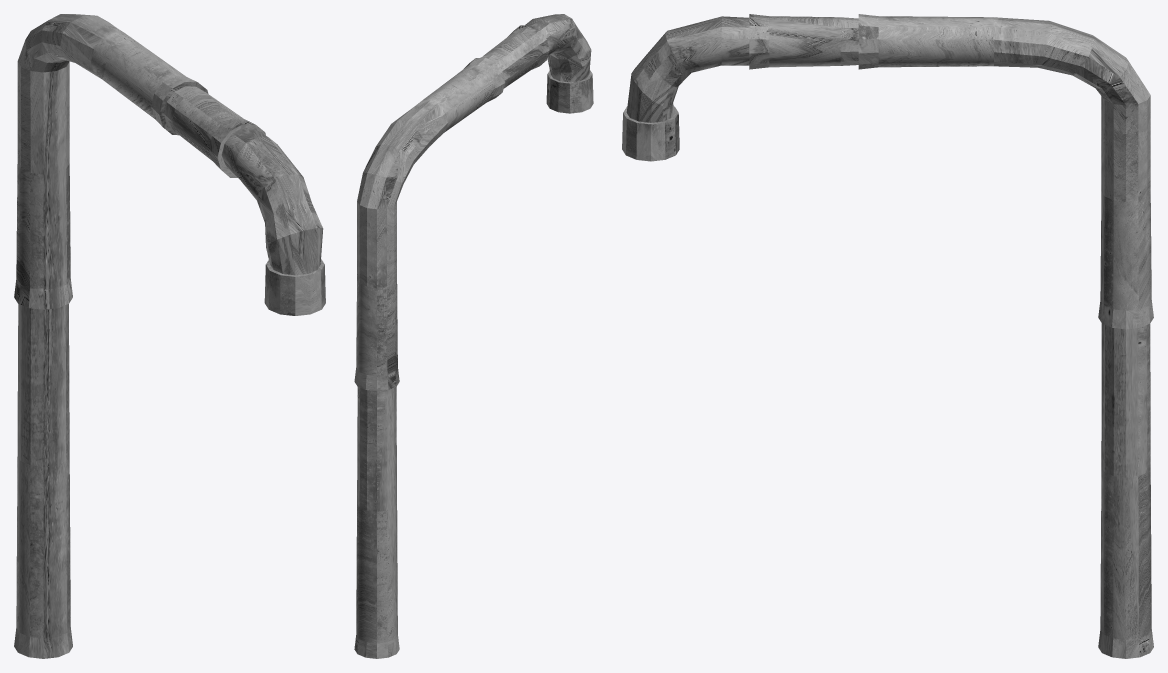
File: pipe_rock_dispense.FBX
The picture shows the model from 3 angles, left to right: view 1: azimuth 30°, elevation 25°; view 2: azimuth 150°, elevation 25°; view 3: azimuth 270°, elevation 25°; orthographic projection. The views are drawn at different scales.
Parts seen in each view (by area): view 1: rock_dispenser_pipe; view 2: rock_dispenser_pipe; view 3: rock_dispenser_pipe.
Part boxes in pixels (x1,y1,x2,y2): rock_dispenser_pipe: [14, 14, 325, 658]; rock_dispenser_pipe: [354, 14, 593, 658]; rock_dispenser_pipe: [622, 14, 1153, 658].
Size of the model in its own units: 56.38 by 672 by 514.
Materials: 1 (1 with a texture image).
